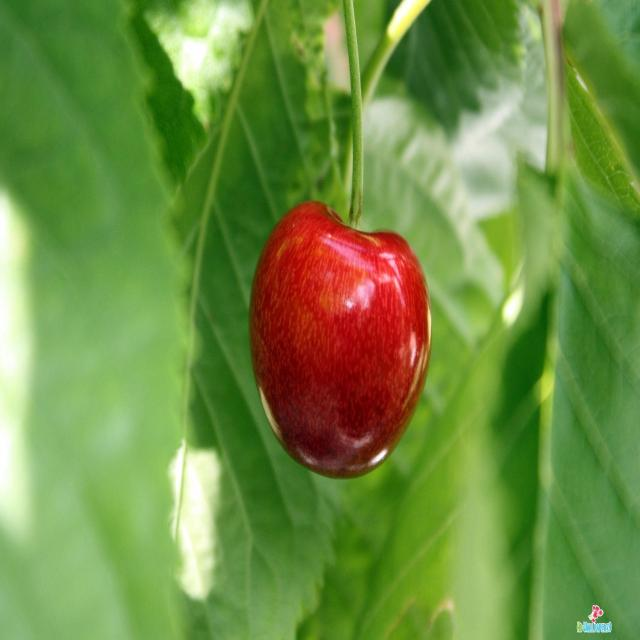Quả cherry: (253, 0, 432, 506)
